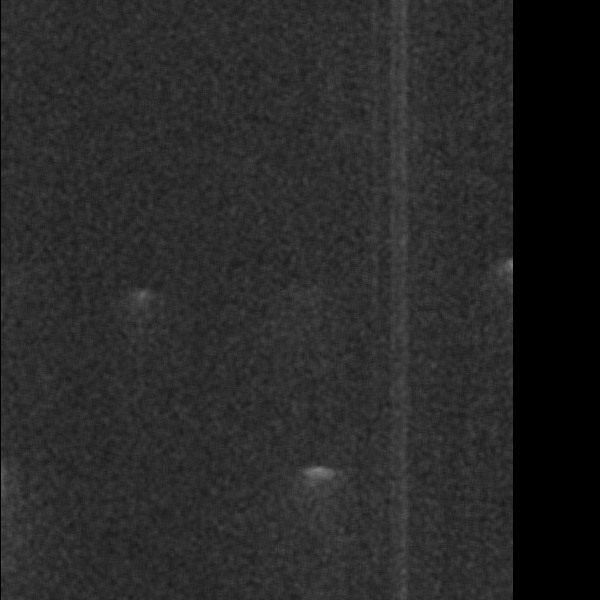spark: (292, 458, 339, 512), (130, 285, 155, 326)
